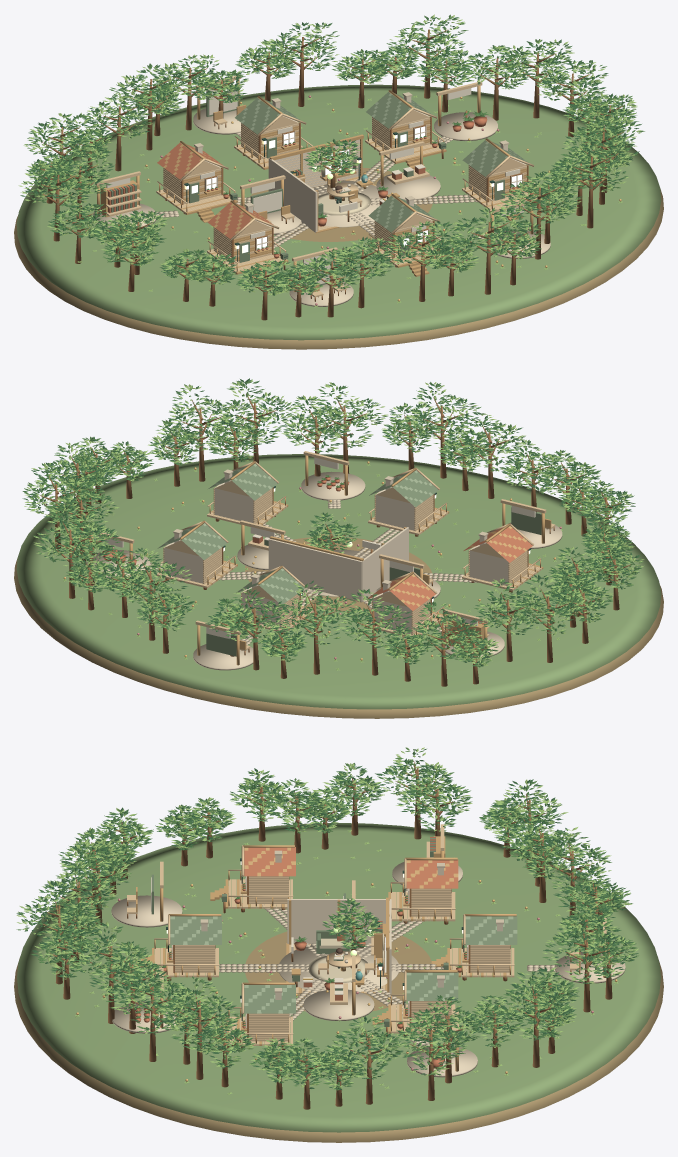
The model's file is forest.glb.
The picture shows the model from 3 angles, top to bottom: view 1: azimuth 30°, elevation 25°; view 2: azimuth 150°, elevation 25°; view 3: azimuth 270°, elevation 25°; orthographic projection. The views are drawn at different scales.
Visible parts, largest first — view 1: Terrain_grass, Plants_leaflight, Plants_leafdark, Plants_leaf, Plants_bark, Terrain_earth, HomeShell_cream, Terrain_stone, Cabin_00_lightwood, Cabin_03_lightwood, Cabin_05_lightwood, Cabin_02_lightwood (+27 smaller); view 2: Terrain_grass, Plants_leaflight, Plants_leafdark, Plants_leaf, Plants_bark, Terrain_earth, HomeShell_cream, Cabin_04_lightwood, Cabin_03_lightwood, Cabin_02_lightwood, Cabin_05_lightwood, Place_play_stone (+26 smaller); view 3: Terrain_grass, Plants_leaflight, Plants_leafdark, Plants_leaf, Plants_bark, Terrain_earth, HomeShell_cream, Terrain_stone, Cabin_00_lightwood, Cabin_03_lightwood, Cabin_01_lightwood, Cabin_04_lightwood (+22 smaller).
Part boxes in pixels (x1,y1,x2,y2): Terrain_grass: [16, 84, 661, 340]; Plants_leaflight: [18, 14, 641, 307]; Plants_leafdark: [20, 17, 641, 294]; Plants_leaf: [23, 14, 644, 295]; Plants_bark: [37, 29, 623, 320]; Terrain_earth: [14, 167, 663, 349]; HomeShell_cream: [268, 139, 359, 232]; Terrain_stone: [236, 157, 477, 248]; Cabin_00_lightwood: [156, 158, 235, 213]; Cabin_03_lightwood: [207, 218, 286, 273]; Cabin_05_lightwood: [462, 155, 538, 209]; Cabin_02_lightwood: [365, 107, 444, 162]; Terrain_grass: [16, 454, 661, 709]; Plants_leaflight: [24, 379, 644, 670]; Plants_leafdark: [22, 378, 641, 666]; Plants_leaf: [22, 381, 643, 667]; Plants_bark: [40, 394, 630, 686]; Terrain_earth: [14, 536, 663, 718]; HomeShell_cream: [268, 527, 408, 602]; Cabin_04_lightwood: [368, 468, 447, 535]; Cabin_03_lightwood: [462, 524, 541, 590]; Cabin_02_lightwood: [156, 521, 236, 588]; Cabin_05_lightwood: [207, 461, 286, 526]; Place_play_stone: [301, 471, 365, 500]; Terrain_grass: [17, 823, 660, 1132]; Plants_leaflight: [16, 747, 638, 1094]; Plants_leafdark: [16, 749, 638, 1089]; Plants_leaf: [16, 747, 638, 1090]; Plants_bark: [35, 761, 623, 1109]; Terrain_earth: [14, 931, 663, 1142]; HomeShell_cream: [287, 899, 391, 993]; Terrain_stone: [219, 904, 466, 1022]; Cabin_00_lightwood: [390, 858, 455, 921]; Cabin_03_lightwood: [228, 845, 293, 908]; Cabin_01_lightwood: [449, 914, 514, 977]; Cabin_04_lightwood: [154, 914, 219, 977].
Size of the model in its own units: 50 by 9.6 by 44.
